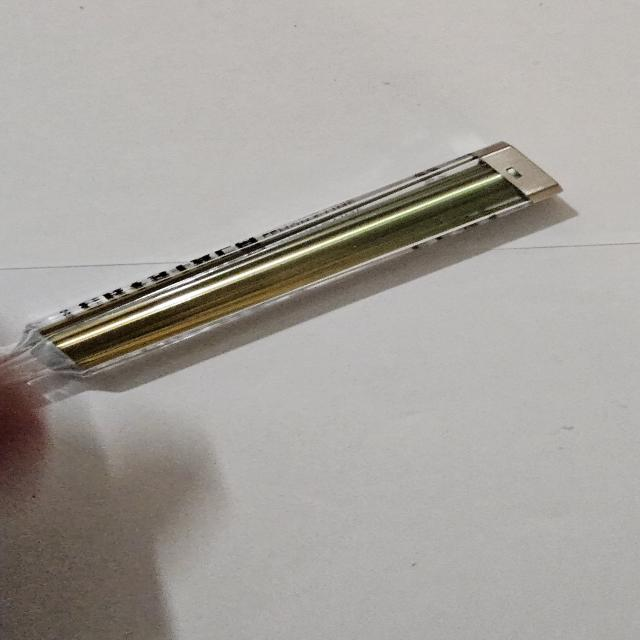Hazard: (9, 139, 564, 392)
